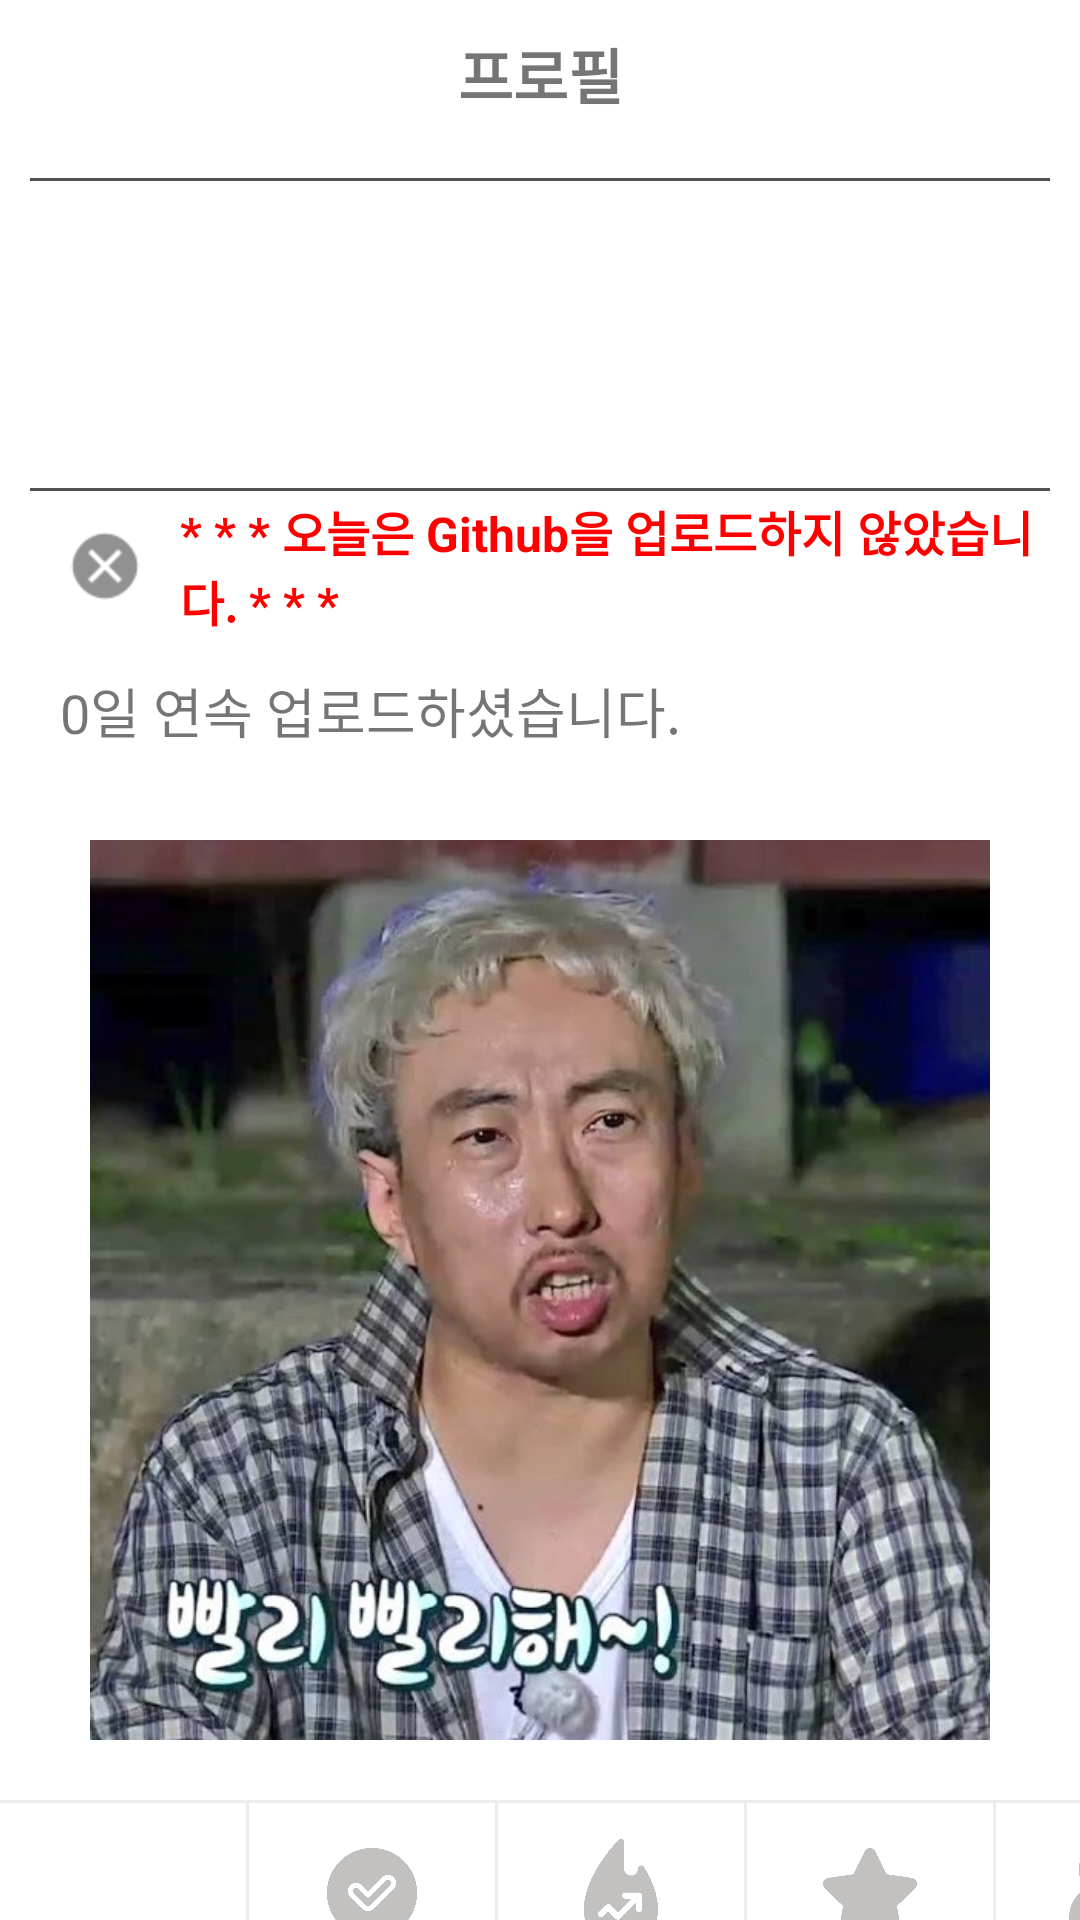

Named icons in this screenshot (1080w x 1920h) and their centers, [x,y]:
presence offline: [105,566]
